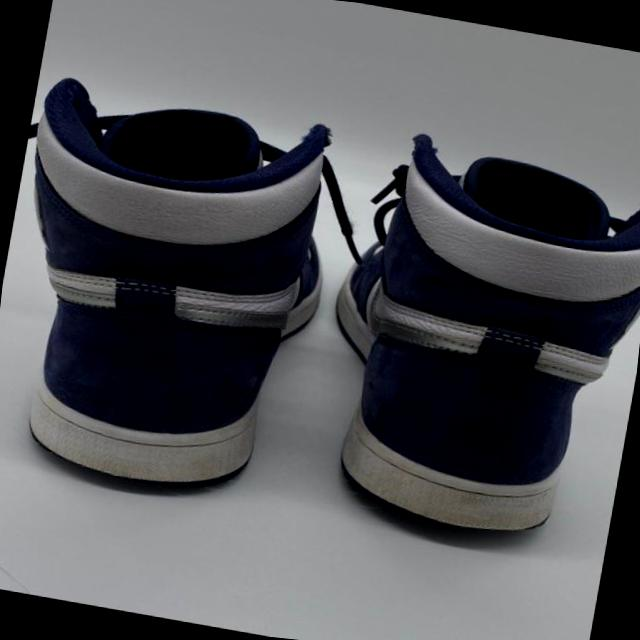nike_original_jordan: (291, 114, 640, 559), (0, 73, 346, 517)
